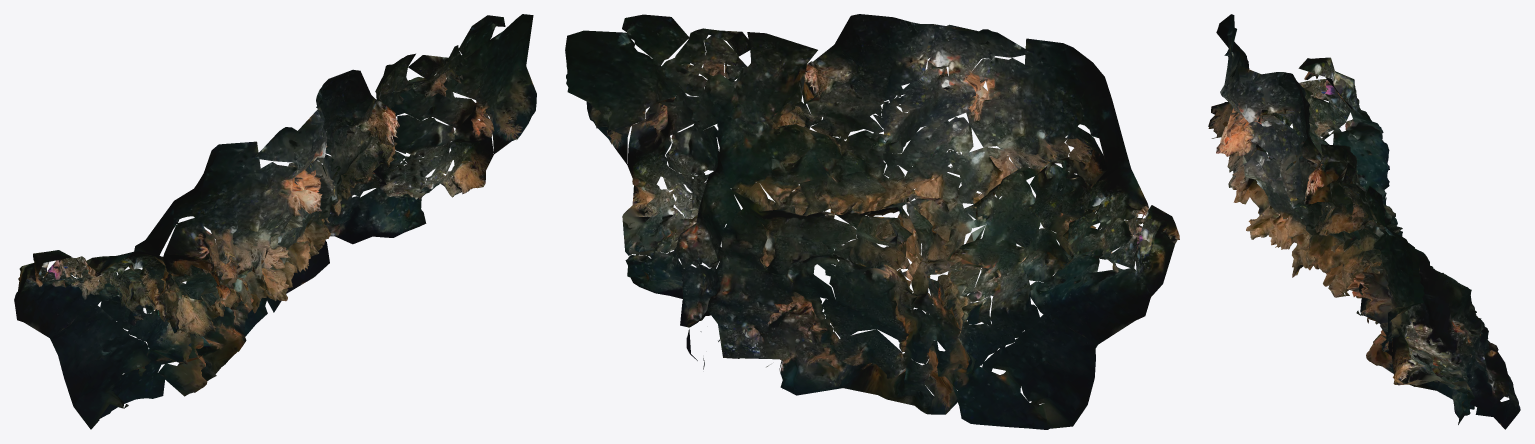
File: coral-sea-fan.glb
The picture shows the model from 3 angles, left to right: view 1: azimuth 30°, elevation 25°; view 2: azimuth 150°, elevation 25°; view 3: azimuth 270°, elevation 25°; orthographic projection. The views are drawn at different scales.
Visible parts, largest first — view 1: Object_5, Object_2; view 2: Object_5, Object_2; view 3: Object_5, Object_2.
Boxes of the visible parts, x1,y1,x2,y2 form: Object_5: (14,15,505,429); Object_2: (41,14,536,418); Object_5: (622,14,1179,428); Object_2: (565,14,1145,429); Object_5: (1216,14,1520,429); Object_2: (1208,51,1509,424).
Bounding box in the file's own units: 11.96 × 6.84 × 5.53.
Materials: 2 (2 with a texture image).
